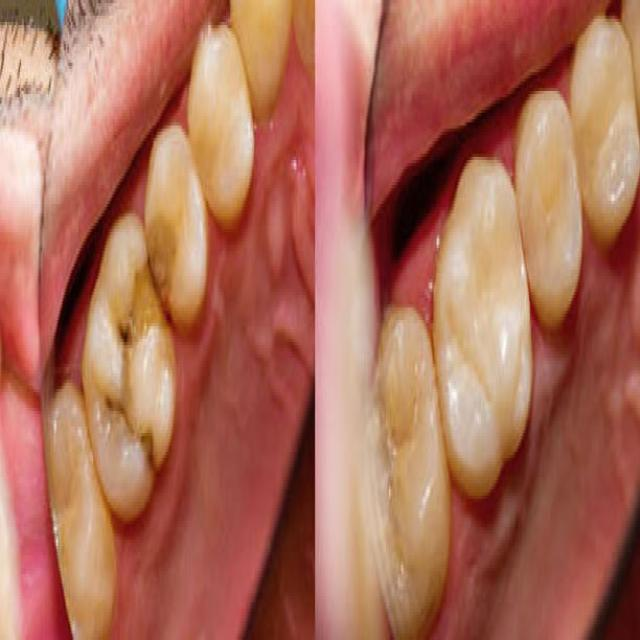caries: (112, 195, 184, 382), (104, 377, 165, 495)
